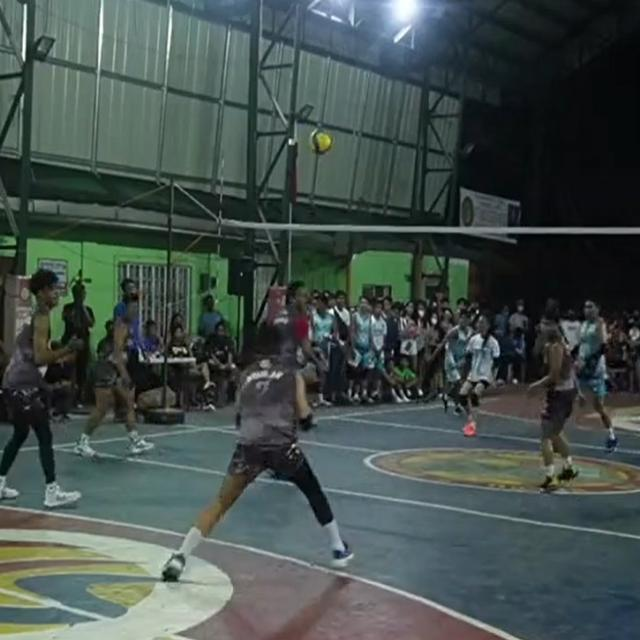volleyball: (308, 128, 332, 156)
